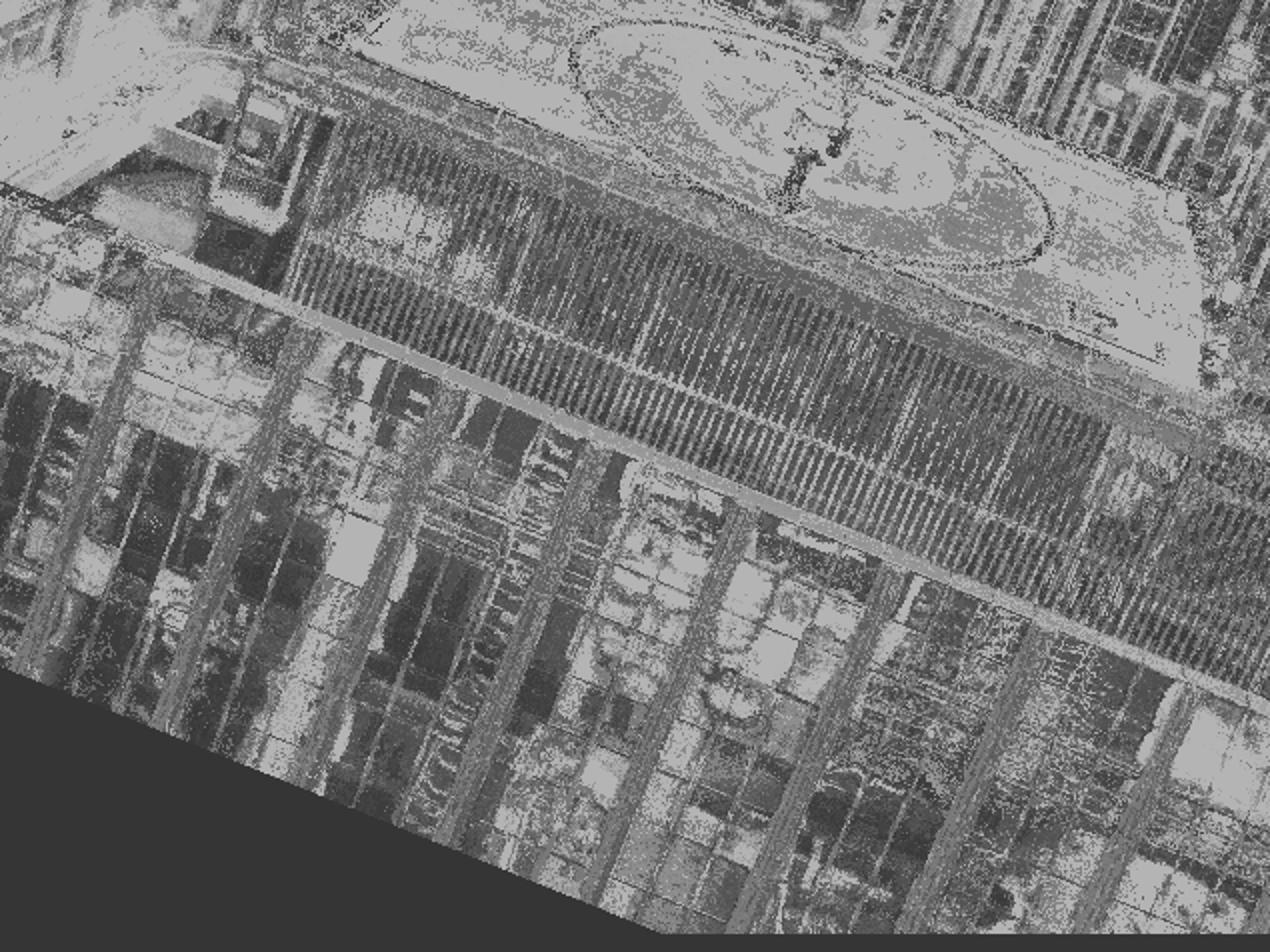Apron: (683, 44, 972, 215)
